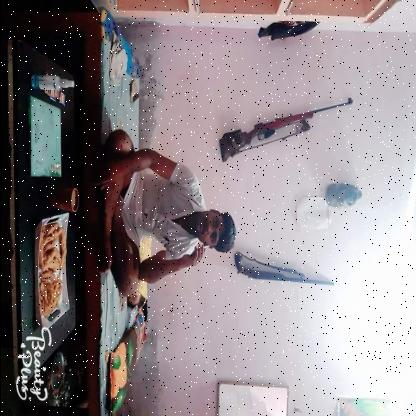rifle: (217, 96, 353, 164), (232, 250, 336, 288)
